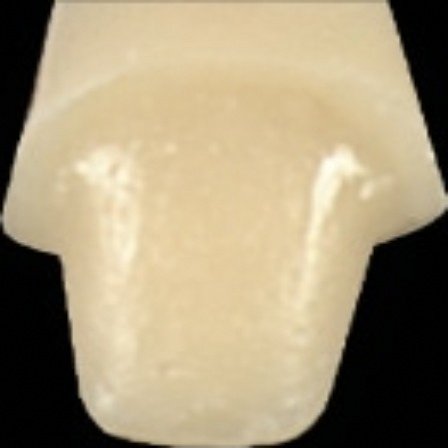coin_1: (61, 261, 81, 281)
coin_2: (82, 397, 102, 417)
coin_3: (372, 246, 392, 266)
coin_4: (331, 388, 351, 408)
